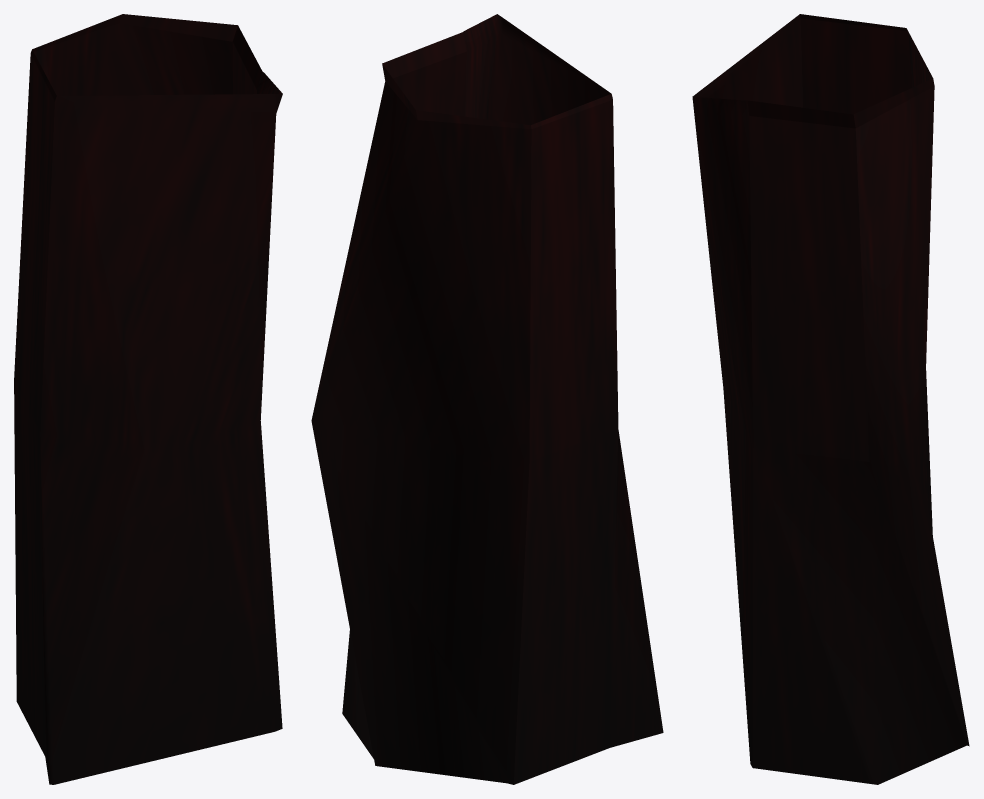
Rendered from jungle_palm_b1_mid.glb.
The picture shows the model from 3 angles, left to right: view 1: azimuth 30°, elevation 25°; view 2: azimuth 150°, elevation 25°; view 3: azimuth 270°, elevation 25°; orthographic projection. The views are drawn at different scales.
Parts seen in each view (by area): view 1: jungle_palm_b1_mid; view 2: jungle_palm_b1_mid; view 3: jungle_palm_b1_mid.
Boxes of the visible parts, x1,y1,x2,y2 form: jungle_palm_b1_mid: (14,14,282,784); jungle_palm_b1_mid: (311,14,663,784); jungle_palm_b1_mid: (692,14,969,784).
Size of the model in its own units: 0.5073 by 1.17 by 0.4462.
Materials: 1 (1 with a texture image).
